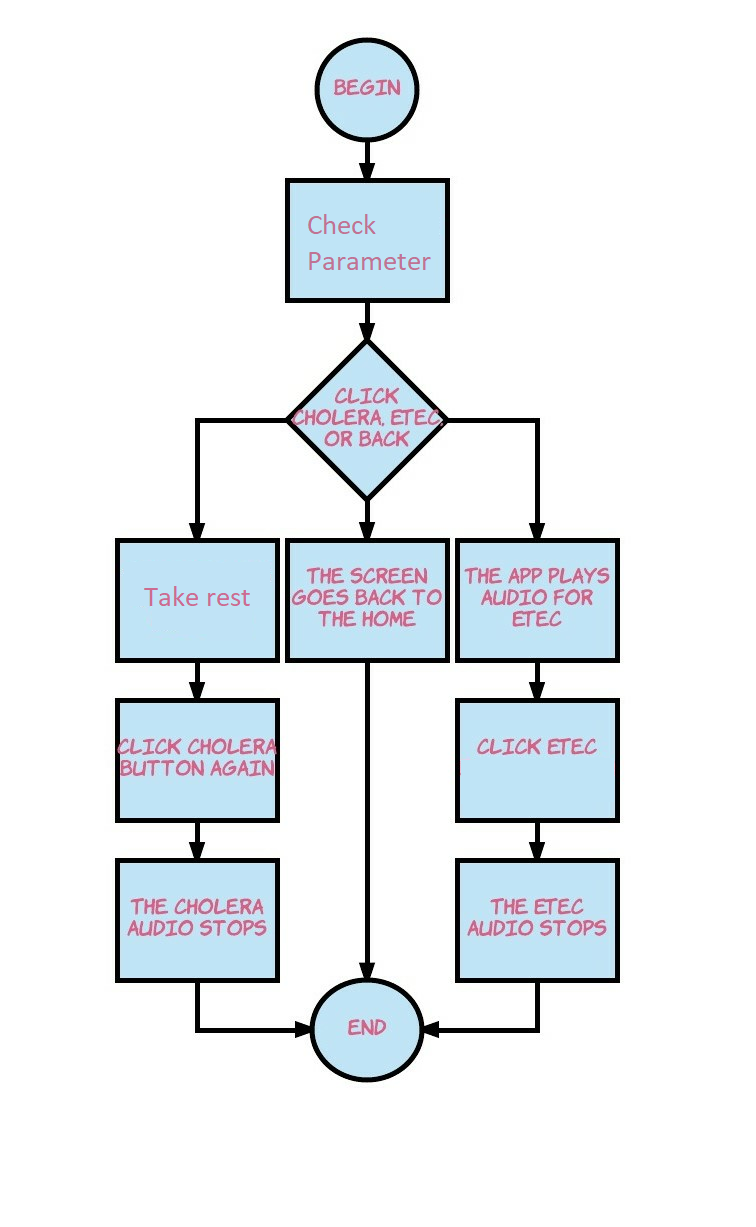arrow: (436, 412, 554, 543), (184, 412, 293, 547), (421, 982, 543, 1045), (188, 980, 310, 1040), (356, 658, 378, 984), (352, 486, 380, 534), (521, 818, 552, 860), (523, 655, 549, 705), (184, 655, 212, 699), (354, 134, 380, 179), (184, 818, 208, 858), (356, 297, 378, 336)
connection: (306, 969, 428, 1088), (310, 32, 425, 147)
decision: (282, 340, 449, 497)
process: (108, 532, 289, 671), (282, 532, 464, 668), (108, 692, 286, 830), (451, 692, 626, 832), (280, 173, 458, 310), (447, 851, 626, 986), (110, 853, 286, 990), (451, 532, 625, 668)
text: (282, 556, 441, 630), (288, 380, 439, 453), (465, 556, 615, 629), (110, 727, 282, 784), (301, 212, 434, 277), (460, 886, 608, 943), (125, 893, 271, 942), (134, 577, 251, 612), (471, 730, 601, 760), (326, 71, 408, 103), (341, 1012, 391, 1042)
